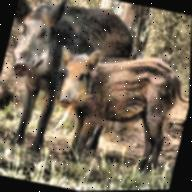boar: (0, 0, 142, 166), (34, 37, 191, 182)
